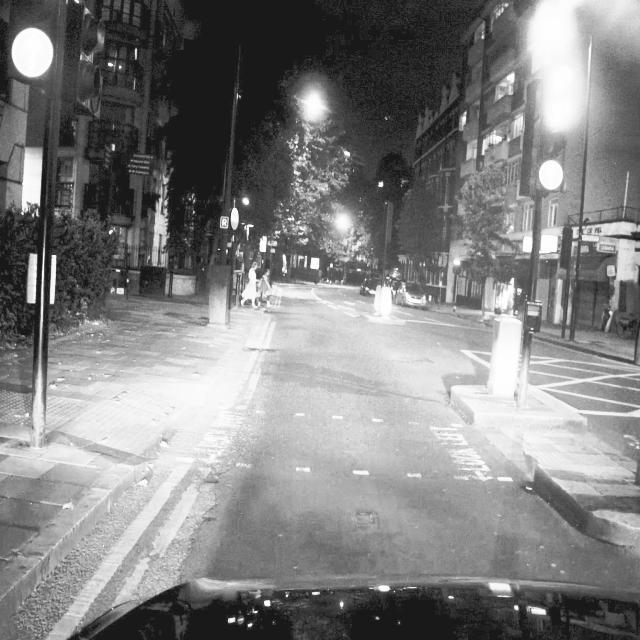Light: (67, 0, 107, 119), (543, 64, 573, 158)
